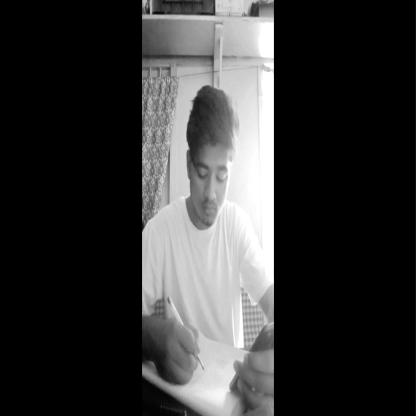Normal: (184, 81, 234, 226)
